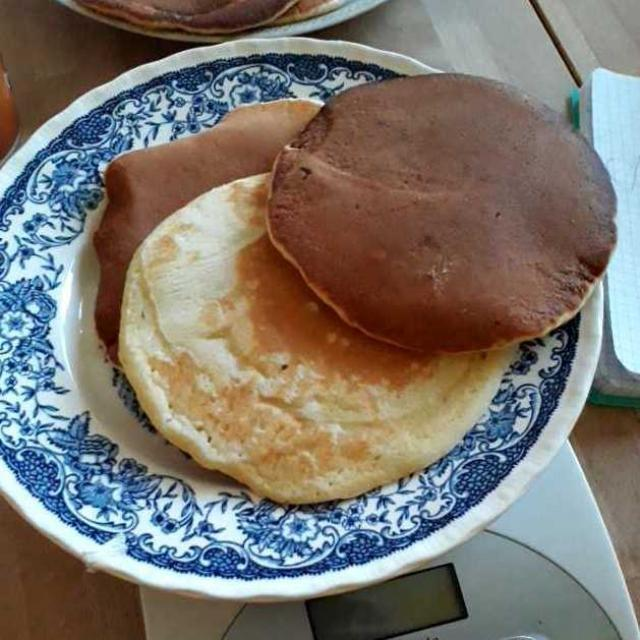pancakes: (68, 64, 618, 510)
